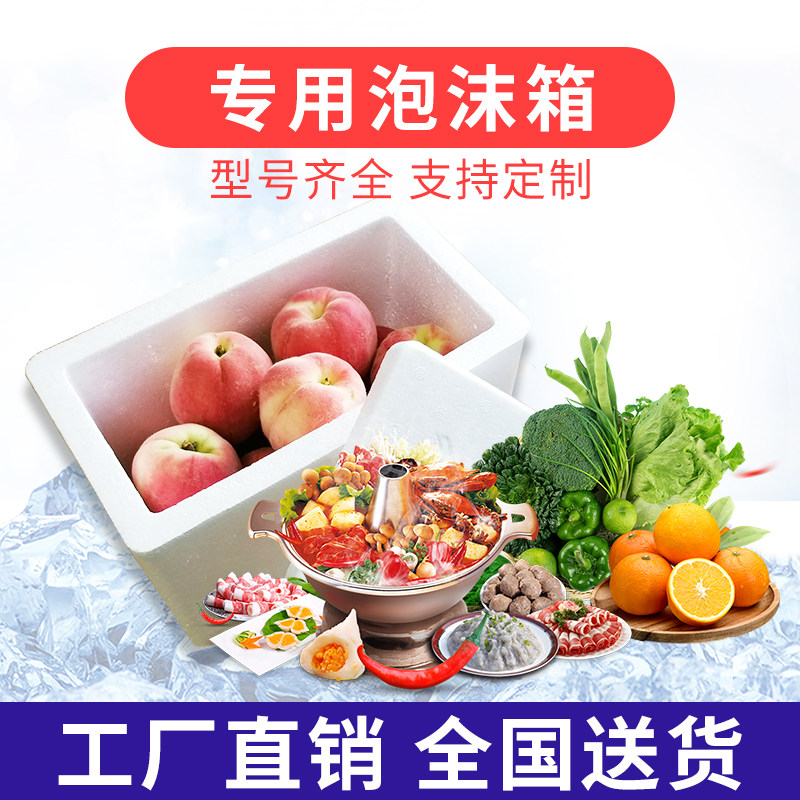泡沫箱: (27, 218, 531, 636)
